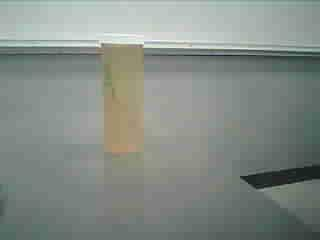Bottle A: (94, 29, 153, 164)
